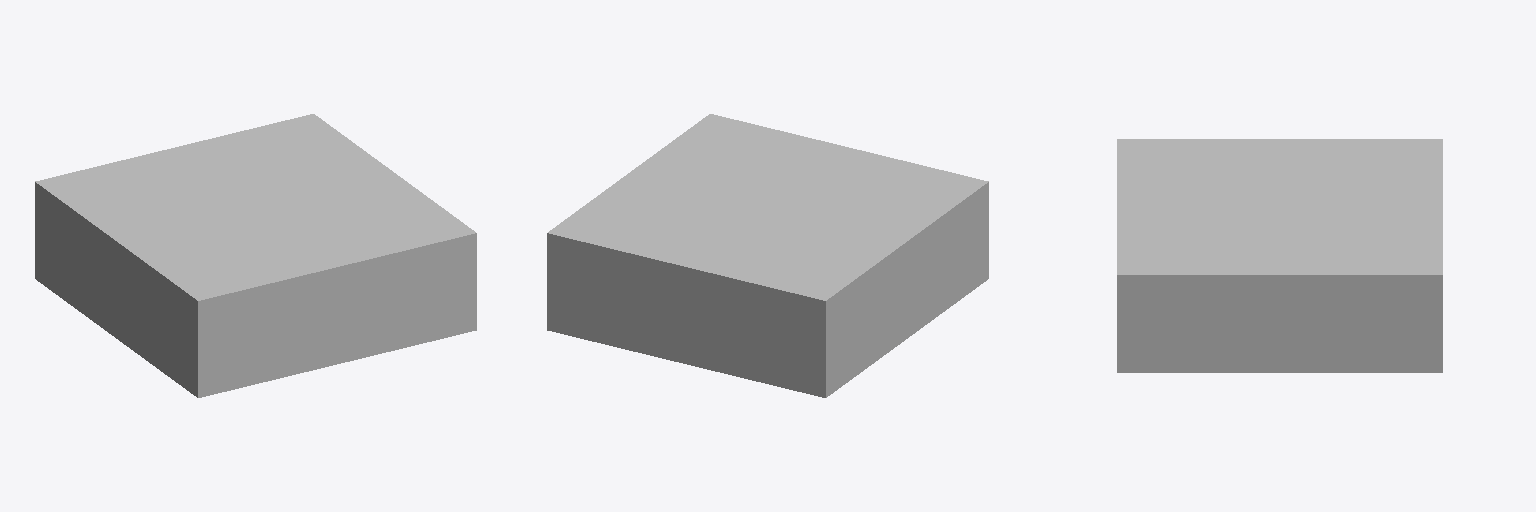
Rendered from map.obj.
The picture shows the model from 3 angles: view 1: azimuth 30°, elevation 25°; view 2: azimuth 150°, elevation 25°; view 3: azimuth 270°, elevation 25°; orthographic projection.
Visible parts, largest first — view 1: Cube.001; view 2: Cube.001; view 3: Cube.001.
Boxes of the visible parts, <box> form: Cube.001: <box>35,114,476,397</box>; Cube.001: <box>547,114,988,397</box>; Cube.001: <box>1117,139,1442,372</box>.
Bounding box in the file's own units: 18 × 6 × 18.25.